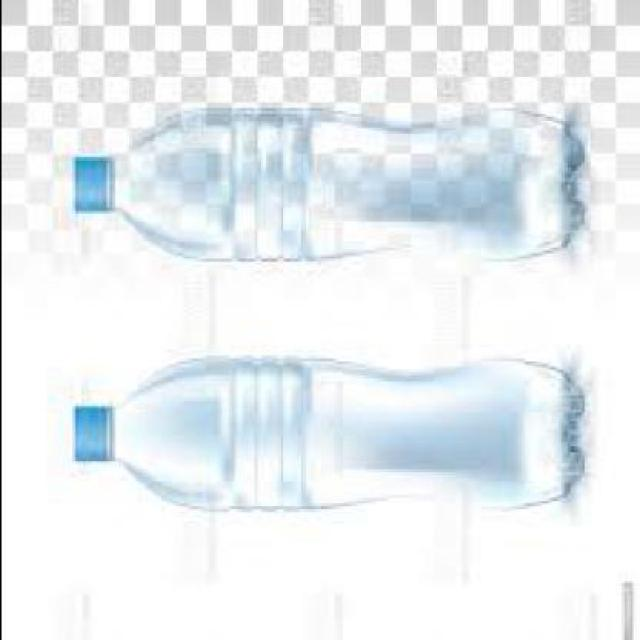PLASTIC: (68, 110, 582, 268), (71, 364, 580, 514), (68, 162, 108, 216), (71, 410, 111, 464)
